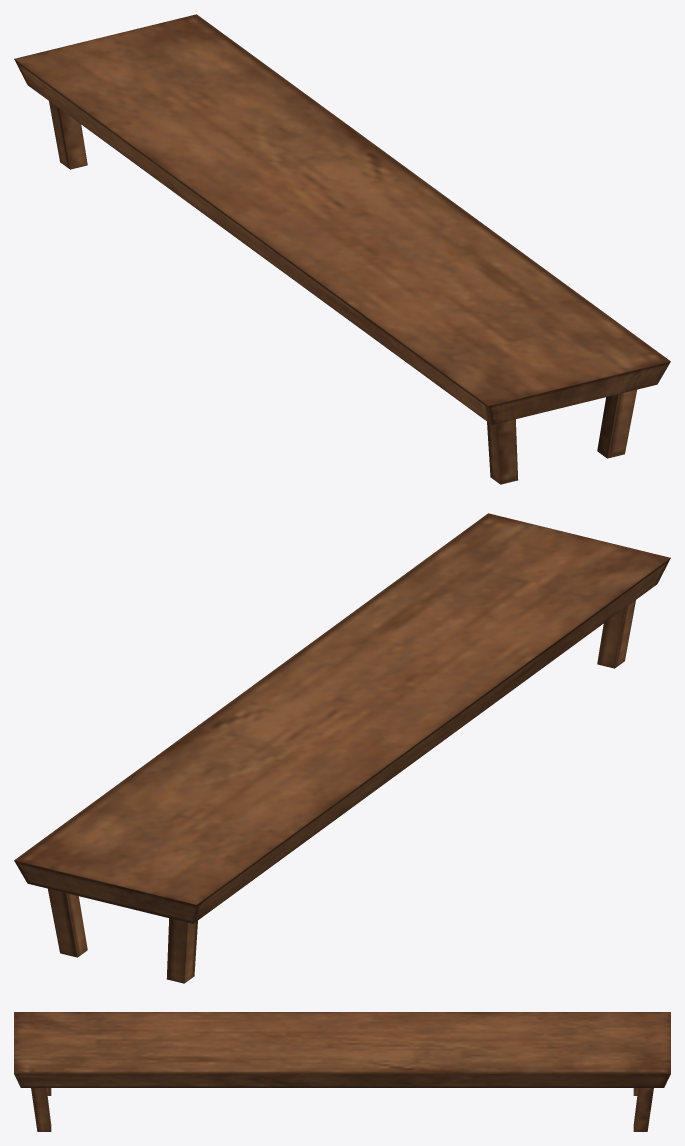
Rendered from SM_SYD_Bench01.fbx.
3 views of the same model, one above another, from view 1: azimuth 30°, elevation 25°; view 2: azimuth 150°, elevation 25°; view 3: azimuth 270°, elevation 25° (orthographic). The views are drawn at different scales.
Parts seen in each view (by area): view 1: SM_SYD_Bench01; view 2: SM_SYD_Bench01; view 3: SM_SYD_Bench01.
Part boxes in pixels (<box>): SM_SYD_Bench01: <box>14,14,670,484</box>; SM_SYD_Bench01: <box>14,513,670,983</box>; SM_SYD_Bench01: <box>14,1012,670,1131</box>.
Bounding box in the file's own units: 77.24 × 39.65 × 347.
